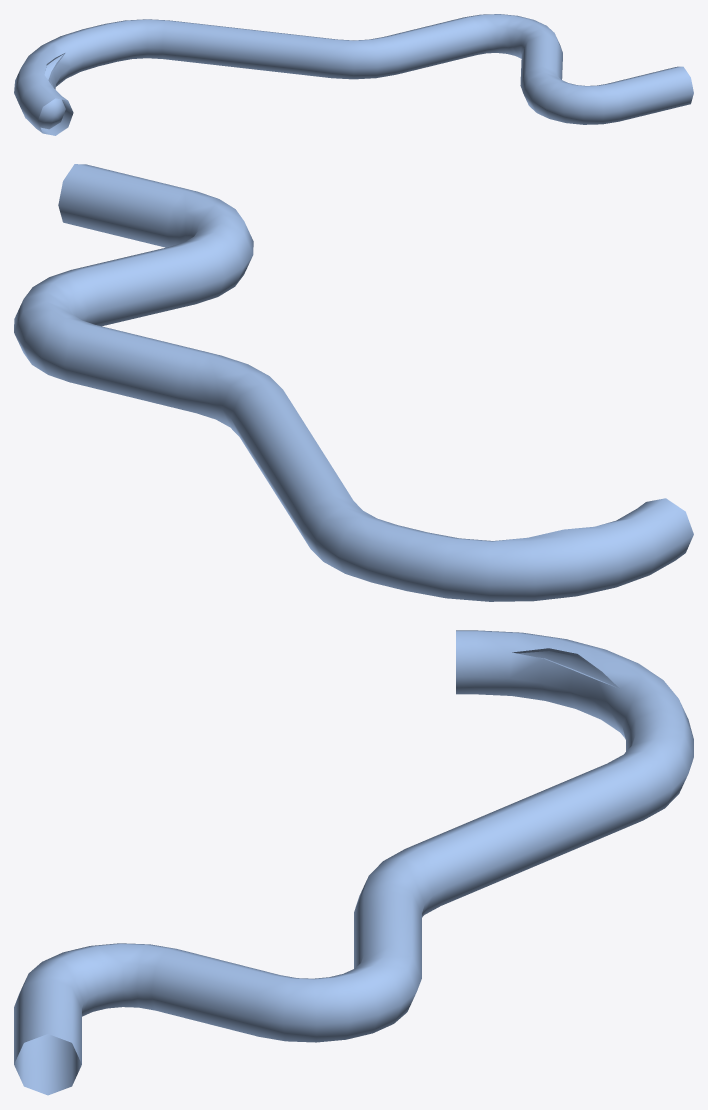
File: PipeComplexSmall_B_02.fbx
3 views of the same model, one above another, from view 1: azimuth 30°, elevation 25°; view 2: azimuth 150°, elevation 25°; view 3: azimuth 270°, elevation 25° (orthographic). The views are drawn at different scales.
Visible parts, largest first — view 1: PipeComplexSmall_B_02.001; view 2: PipeComplexSmall_B_02.001; view 3: PipeComplexSmall_B_02.001.
Boxes of the visible parts, x1,y1,x2,y2 form: PipeComplexSmall_B_02.001: (14, 14, 693, 135); PipeComplexSmall_B_02.001: (14, 164, 693, 601); PipeComplexSmall_B_02.001: (14, 630, 693, 1095).
Size of the model in its own units: 1.45 by 0.1005 by 1.
